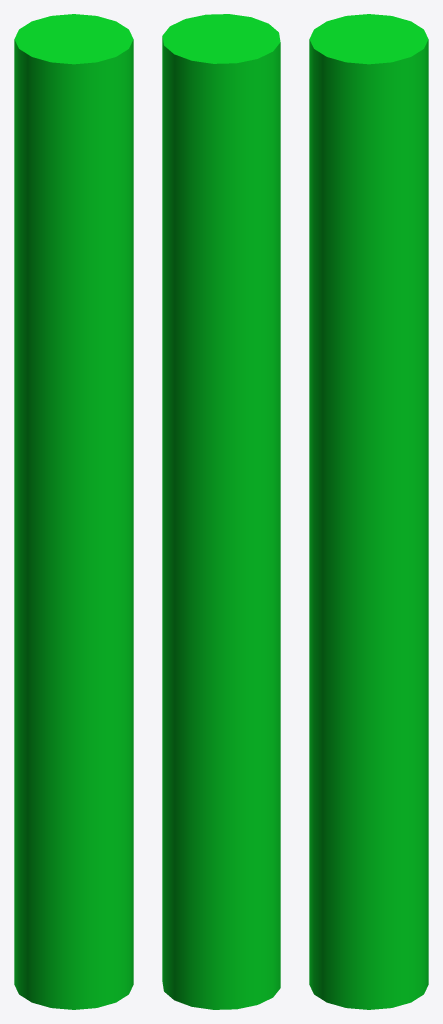
Rendered from rurkadol.fbx.
The picture shows the model from 3 angles, left to right: view 1: azimuth 90°, elevation 25°; view 2: azimuth 150°, elevation 25°; view 3: azimuth 270°, elevation 25°; orthographic projection.
Visible parts, largest first — view 1: Cylinder.007; view 2: Cylinder.007; view 3: Cylinder.007.
Part boxes in pixels (box(x1,y1,x2,y2)): Cylinder.007: box(14, 14, 133, 1009); Cylinder.007: box(162, 14, 280, 1009); Cylinder.007: box(309, 14, 428, 1009).
Size of the model in its own units: 2.36 by 20.69 by 2.36.
